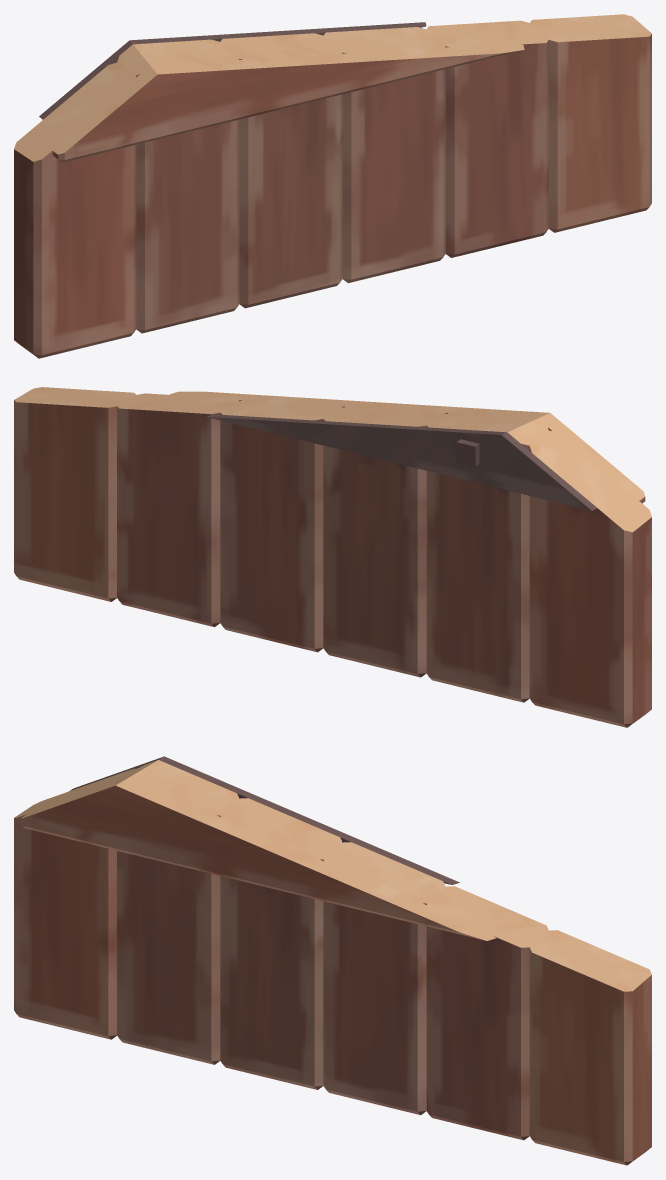
Rendered from door_s00.fbx.
The picture shows the model from 3 angles, top to bottom: view 1: azimuth 30°, elevation 25°; view 2: azimuth 150°, elevation 25°; view 3: azimuth 330°, elevation 25°; orthographic projection.
Parts seen in each view (by area): view 1: door_s00; view 2: door_s00; view 3: door_s00.
Part boxes in pixels (x1,y1,x2,y2): door_s00: [14, 14, 651, 358]; door_s00: [14, 387, 651, 727]; door_s00: [14, 756, 651, 1165].
Bounding box in the file's own units: 3.9 × 1.63 × 0.465.
